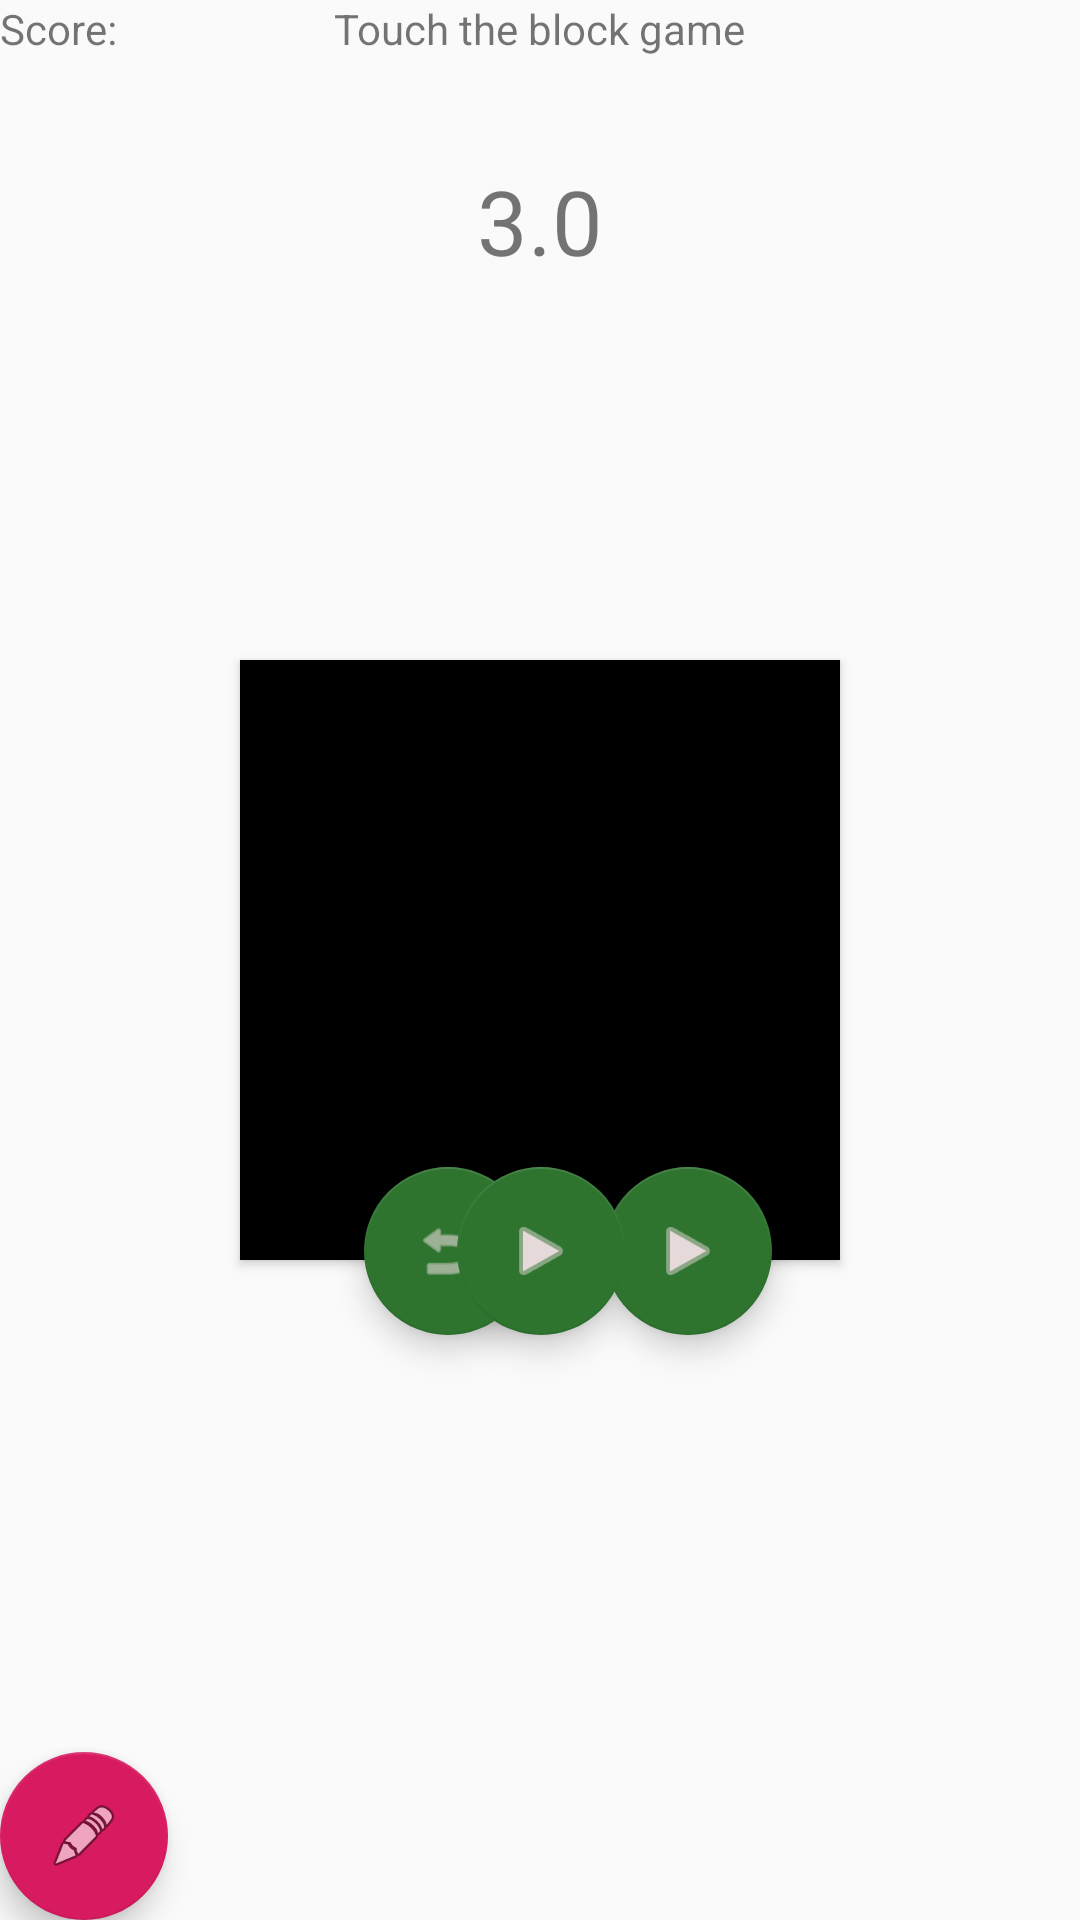

Point at icon controls on the screen. Image size 1080px x 1920px, points as [x,y].
edit: [84,1836]
play: [541,1251], [688,1251]
